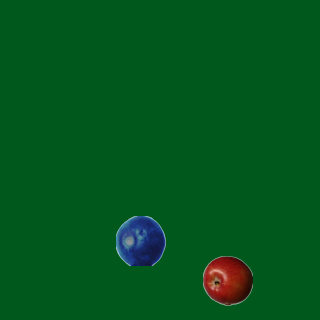Apple Braeburn: (202, 255, 252, 305)
Huckleberry: (115, 215, 165, 265)
